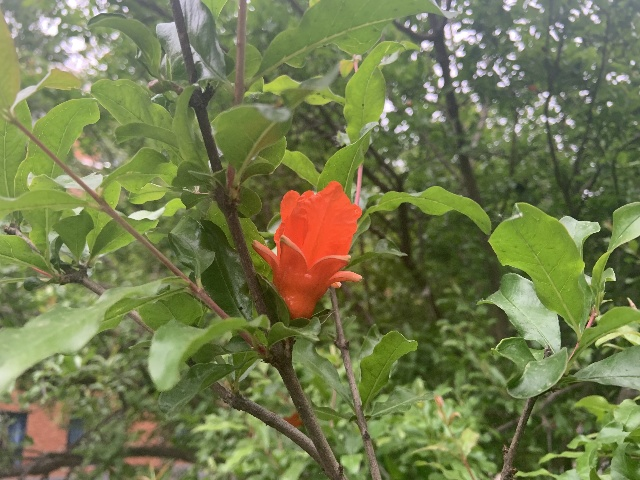flower: (252, 180, 362, 320)
